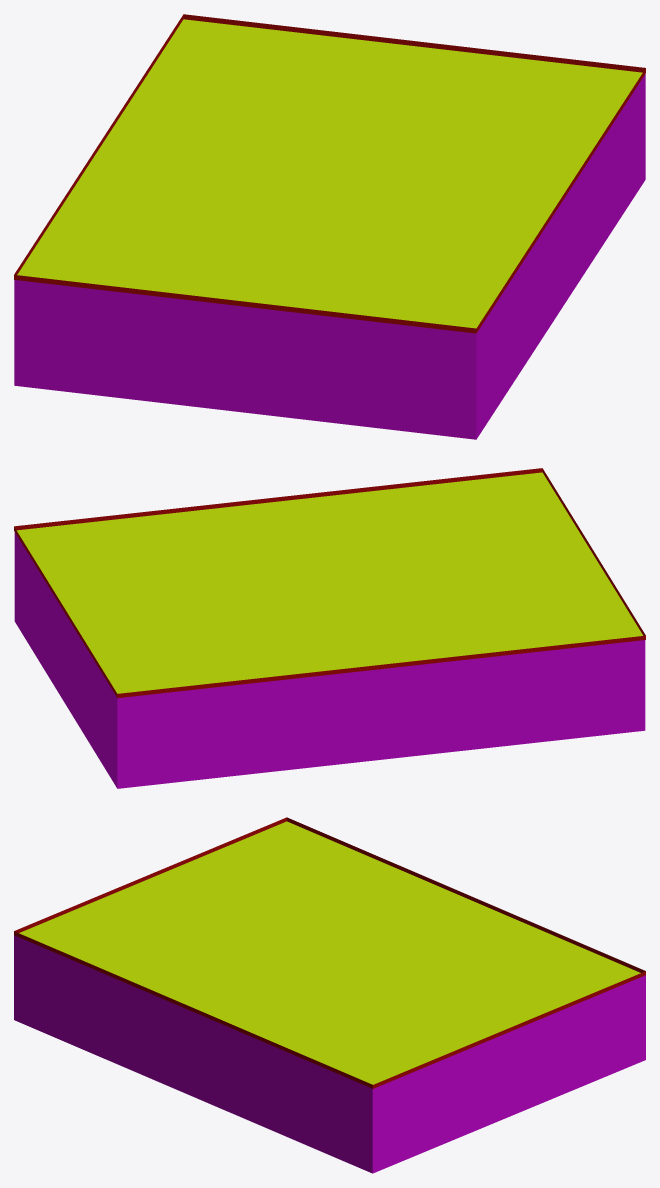
Rendered from bgj_40.glb.
The picture shows the model from 3 angles, top to bottom: view 1: azimuth 30°, elevation 25°; view 2: azimuth 150°, elevation 25°; view 3: azimuth 270°, elevation 25°; orthographic projection. The views are drawn at different scales.
Visible parts, largest first — view 1: bgj_40; view 2: bgj_40; view 3: bgj_40.
Part boxes in pixels (bbox=[...]): bgj_40: bbox=[14, 14, 645, 439]; bgj_40: bbox=[14, 468, 645, 788]; bgj_40: bbox=[14, 817, 645, 1173].
Size of the model in its own units: 49.64 by 7.69 by 49.54.
